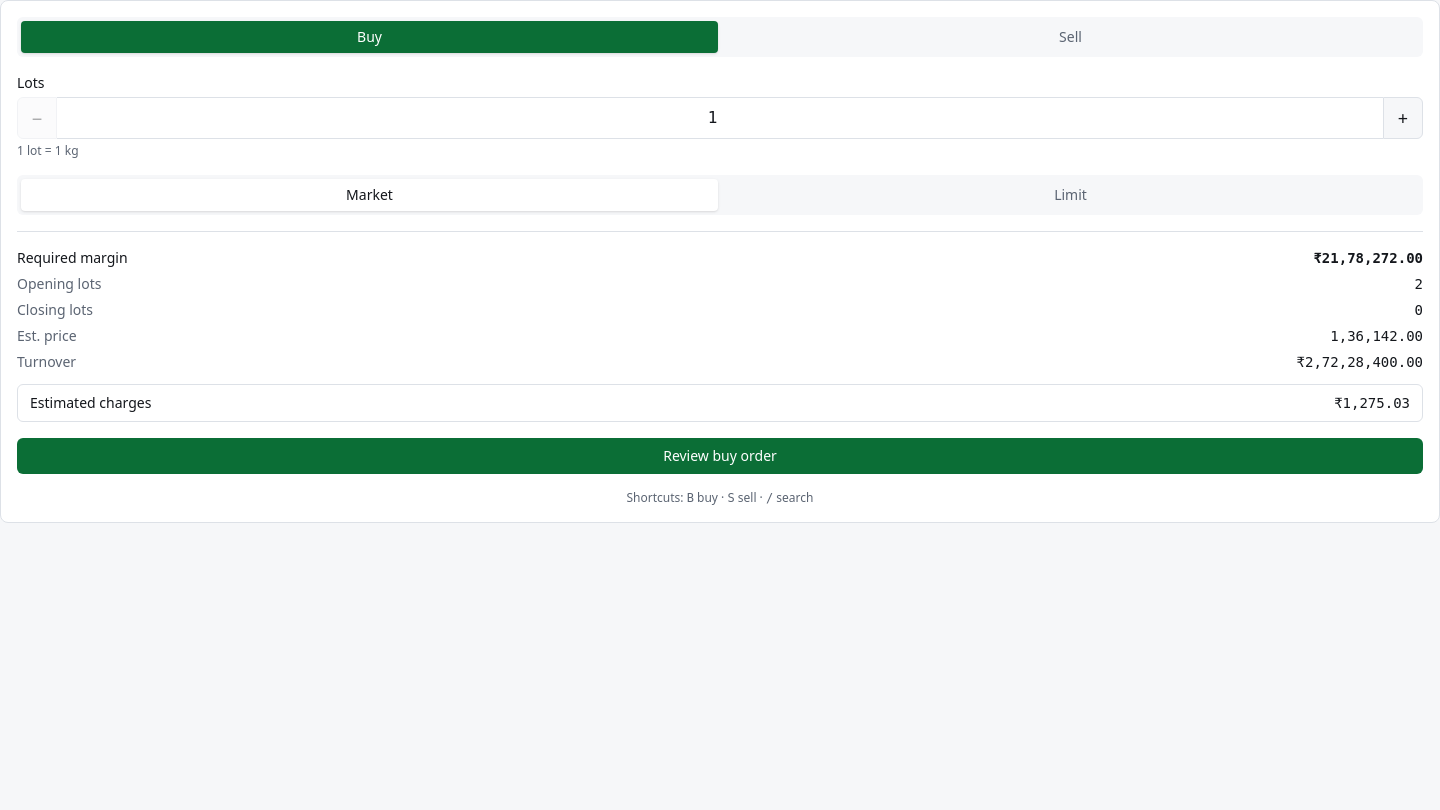
Test: order ticket: validation › checks the limit price against the tick size from the spec
Click the radio button labelled "Limit" at (1070, 195), box [722, 179, 1419, 211]
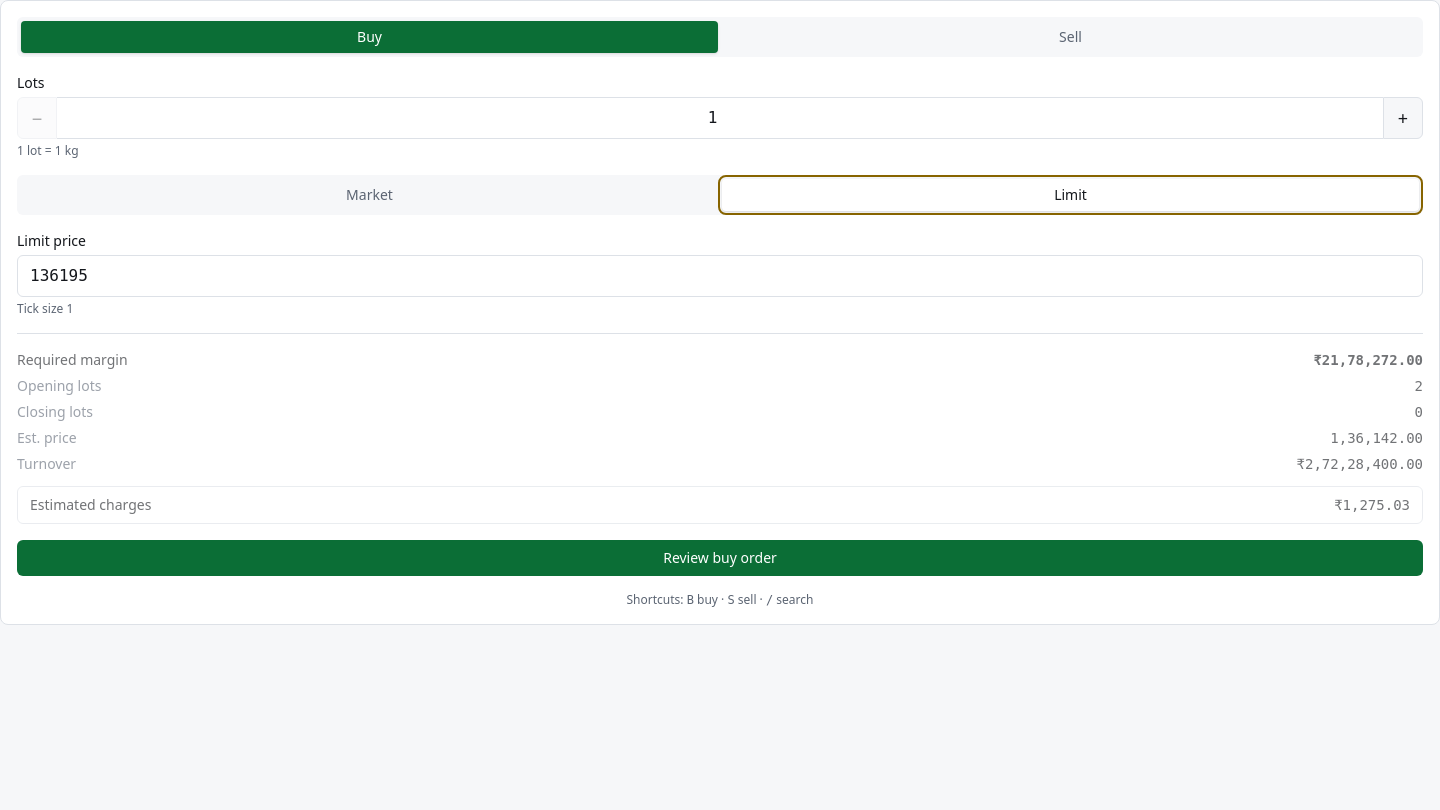
Check: the number field labelled "Limit price" holds "136195"
Replace the text in the number field labelled "Limit price" with "136195.5" at (720, 276), box [17, 255, 1423, 297]
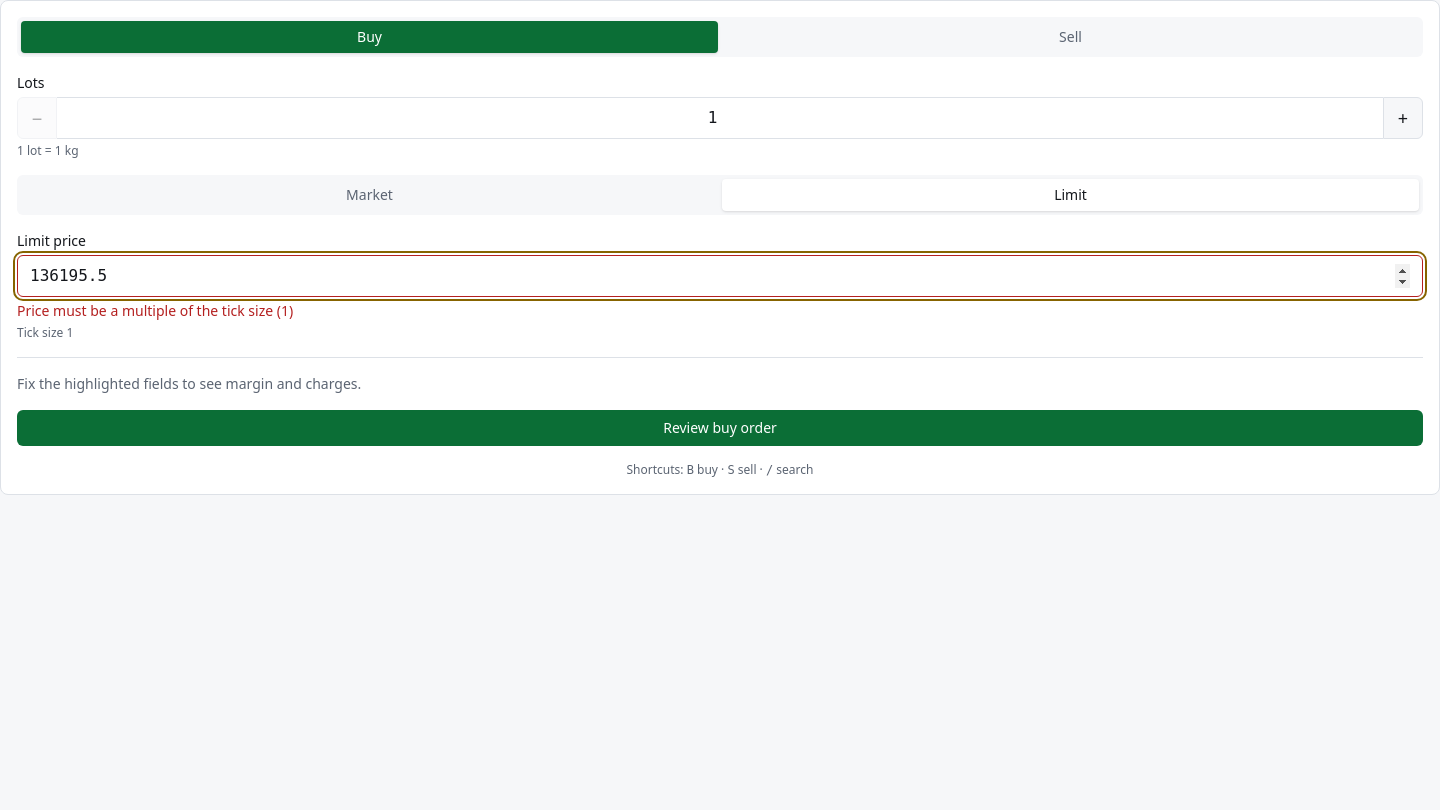
Check: the text "Price must be a multiple of the tick size (1)" is shown, box [17, 301, 293, 320]
Clear the number field labelled "Limit price" at (720, 276), box [17, 255, 1423, 297]
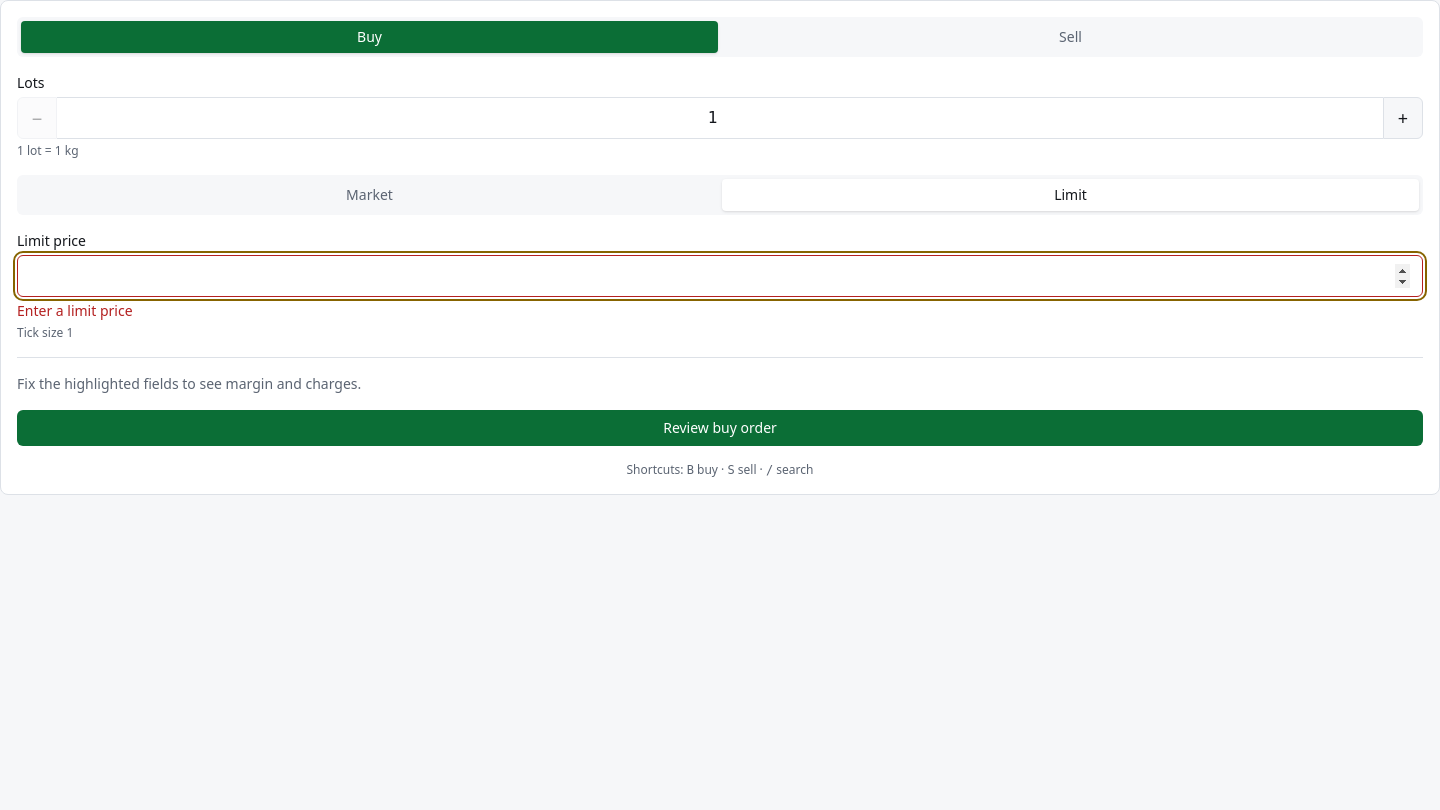
Check: the text "Enter a limit price" is shown, box [17, 301, 132, 320]
